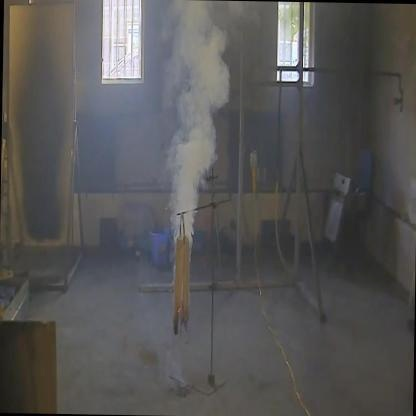smoke: (148, 0, 237, 253)
